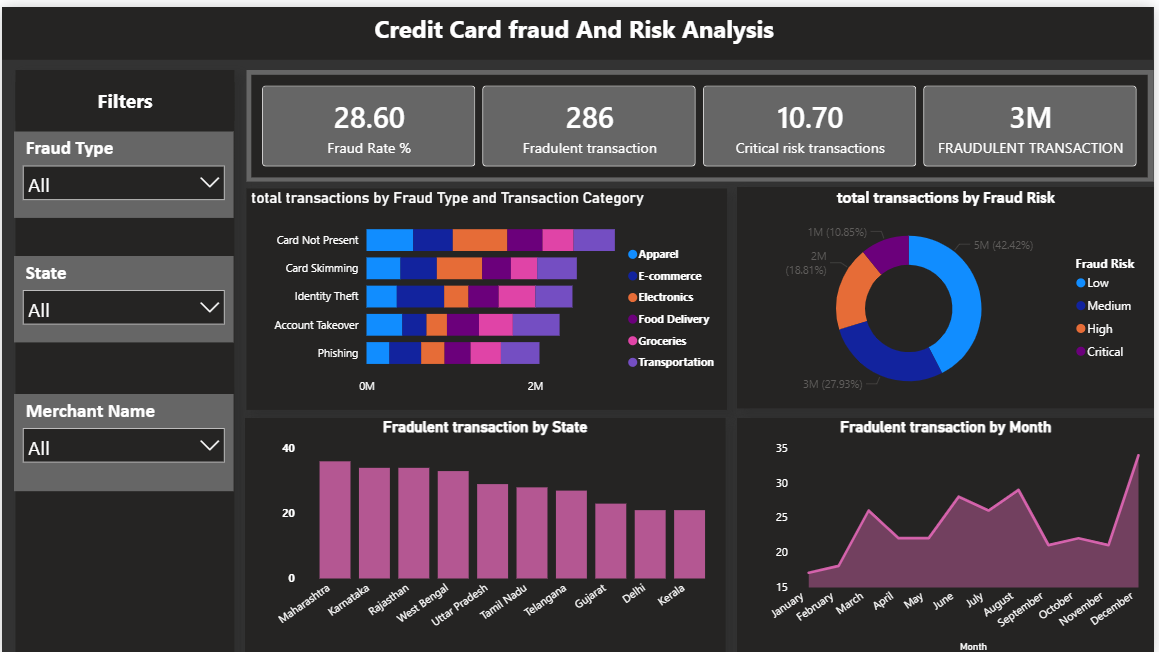

What the dashboard file says about the page in this screenshot:
{"tool":"powerbi","page":{"name":"Page 1","canvas":[1280,720],"ordinal":0},"visuals":[{"type":"textbox","box":[0,0,1278.9,58.9],"z":0},{"type":"shape","box":[14.3,70,243.4,650.6],"z":1000},{"type":"textbox","box":[14.3,82.7,243.4,42.9],"z":2000},{"type":"barChart","fields":{"Y":["Credit Card Fraud Risk Analysis.total transactions"],"Category":["Credit Card Fraud Risk Analysis.Fraud Type"],"Series":["Credit Card Fraud Risk Analysis.Transaction Category"]},"box":[272,202,534,246],"z":3000},{"type":"donutChart","fields":{"Y":["Credit Card Fraud Risk Analysis.total transactions"],"Category":["Credit Card Fraud Risk Analysis.Fraud Risk"]},"box":[816,200,464,246],"z":4000},{"type":"columnChart","fields":{"Category":["Credit Card Fraud Risk Analysis.State"],"Y":["Credit Card Fraud Risk Analysis.Fradulent transaction"]},"box":[270,456,534,264],"z":5000},{"type":"lineChart","fields":{"Y":["Credit Card Fraud Risk Analysis.Fradulent transaction"],"Category":["Credit Card Fraud Risk Analysis.Transaction Date.Variation.Date Hierarchy.Month"]},"box":[816,456,464,264],"z":6000},{"type":"slicer","fields":{"Values":["Credit Card Fraud Risk Analysis.Fraud Type"]},"box":[14,138,244,96],"z":7000},{"type":"slicer","fields":{"Values":["Credit Card Fraud Risk Analysis.State"]},"box":[14,276,244,96],"z":8000},{"type":"slicer","fields":{"Values":["Credit Card Fraud Risk Analysis.Merchant Name"]},"box":[14,430,244,108],"z":9000},{"type":"cardVisual","fields":{"Data":["Credit Card Fraud Risk Analysis.Fraud Rate %","Credit Card Fraud Risk Analysis.Fradulent transaction","Credit Card Fraud Risk Analysis.Critical risk transactions","Credit Card Fraud Risk Analysis.fRAUDULENT TRANSACTION AMOUNT"]},"box":[272,70,1008,124],"z":10000}]}

Visuals, with their boxes in screenshot pixels (x1, y1, x2, y2), scaled from the page's 1280x720 canvas onto the 1159x652 screenshot:
textbox: select_region(0, 0, 1158, 53)
shape: select_region(13, 63, 233, 651)
textbox: select_region(13, 75, 233, 114)
barChart - Credit Card Fraud Risk Analysis.total transactions x Credit Card Fraud Risk Analysis.Fraud Type: select_region(246, 183, 730, 406)
donutChart - Credit Card Fraud Risk Analysis.total transactions x Credit Card Fraud Risk Analysis.Fraud Risk: select_region(739, 181, 1158, 404)
columnChart - Credit Card Fraud Risk Analysis.State x Credit Card Fraud Risk Analysis.Fradulent transaction: select_region(244, 413, 728, 651)
lineChart - Credit Card Fraud Risk Analysis.Fradulent transaction x Credit Card Fraud Risk Analysis.Transaction Date.Variation.Date Hierarchy.Month: select_region(739, 413, 1158, 651)
slicer - Credit Card Fraud Risk Analysis.Fraud Type: select_region(13, 125, 234, 212)
slicer - Credit Card Fraud Risk Analysis.State: select_region(13, 250, 234, 337)
slicer - Credit Card Fraud Risk Analysis.Merchant Name: select_region(13, 389, 234, 487)
cardVisual - Credit Card Fraud Risk Analysis.Fraud Rate % x Credit Card Fraud Risk Analysis.Fradulent transaction: select_region(246, 63, 1158, 176)
